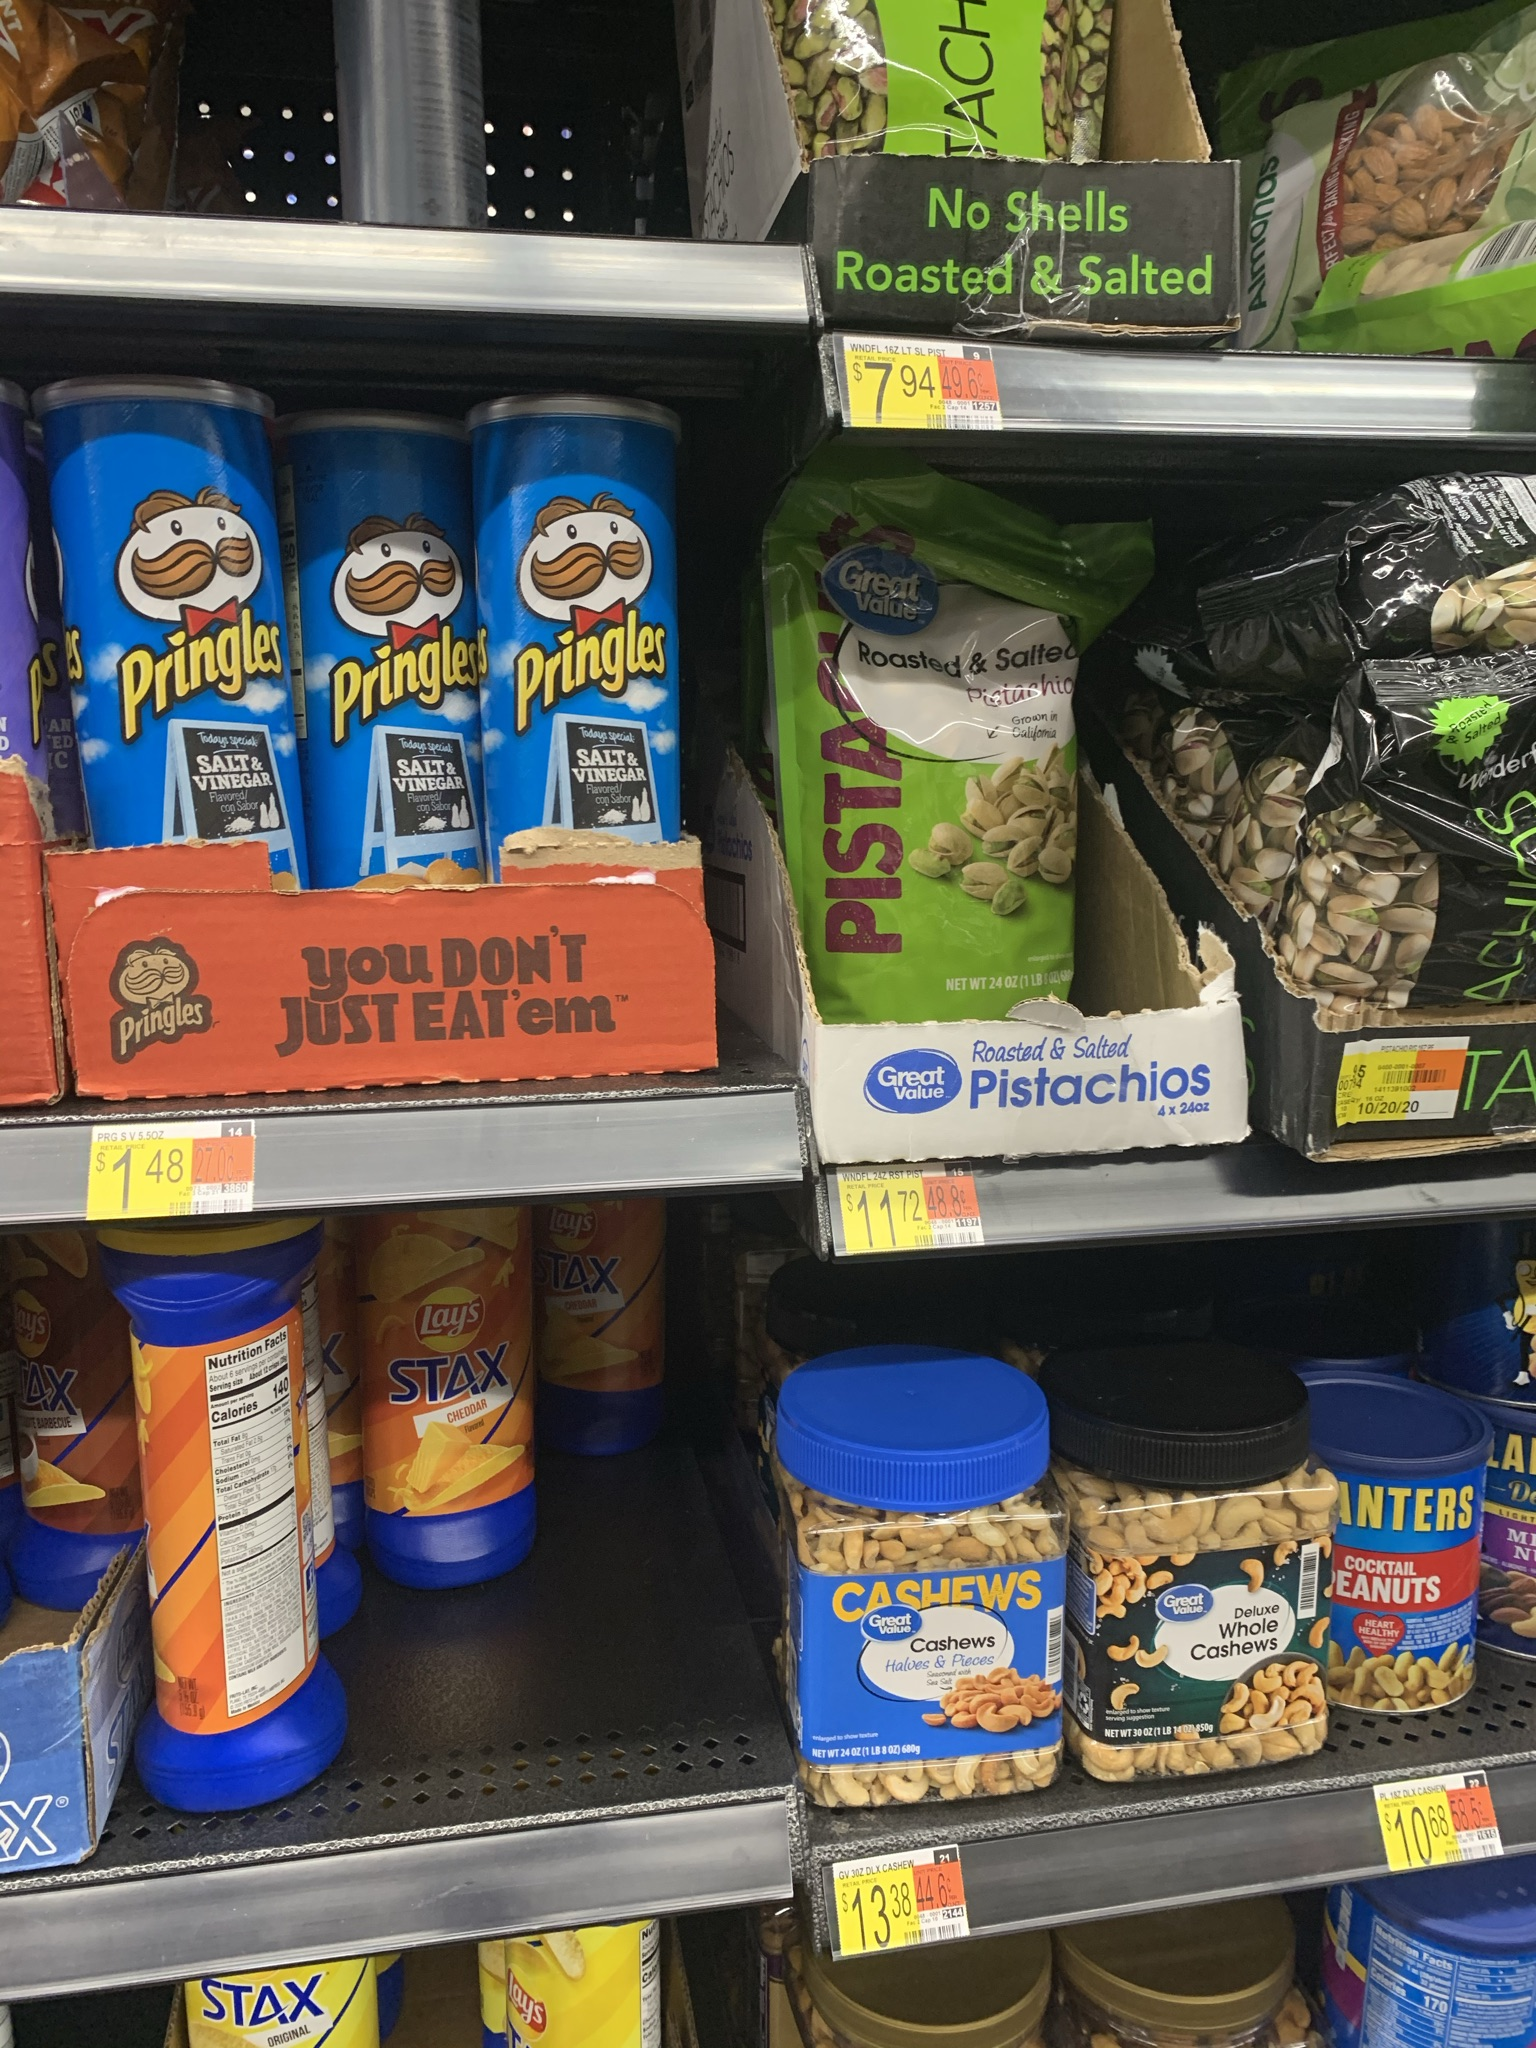lays: (157, 1316, 344, 1755), (360, 1226, 520, 1551), (557, 1206, 649, 1443)
pringles chips: (65, 405, 307, 879), (497, 414, 684, 879), (328, 419, 466, 876)
